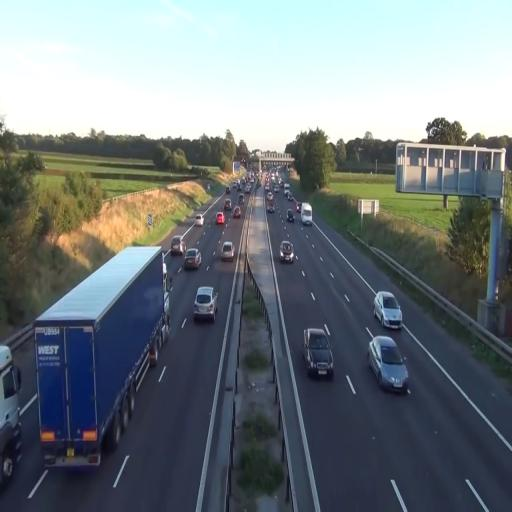vehicle: (35, 244, 166, 469), (0, 342, 24, 492), (0, 343, 23, 490), (367, 335, 409, 392), (304, 326, 334, 380), (374, 290, 403, 330), (192, 285, 218, 323), (217, 240, 236, 264), (184, 249, 202, 271), (279, 239, 294, 263), (301, 203, 313, 223), (233, 204, 242, 220), (216, 212, 225, 226), (286, 209, 295, 222)
